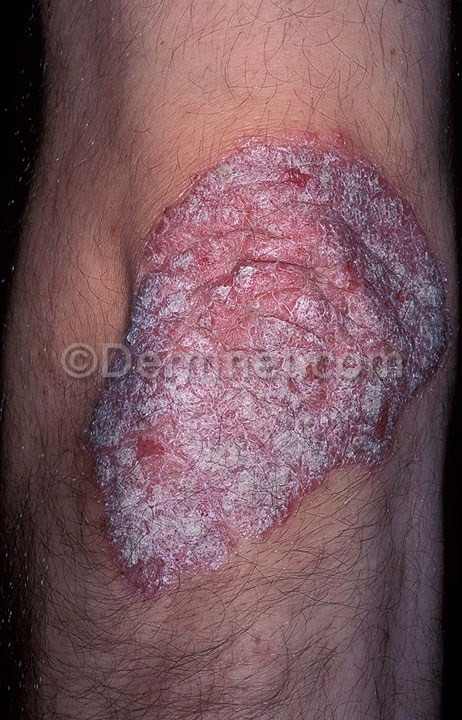Psoriasis: (79, 143, 462, 599)
